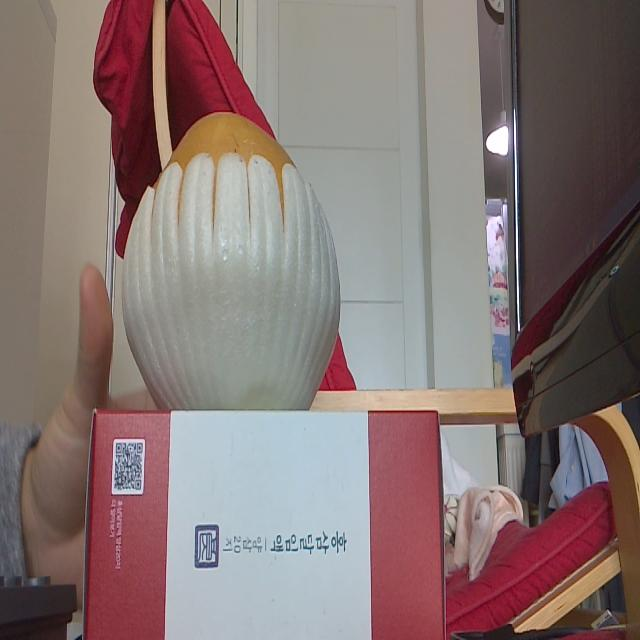pear: (124, 111, 341, 410)
